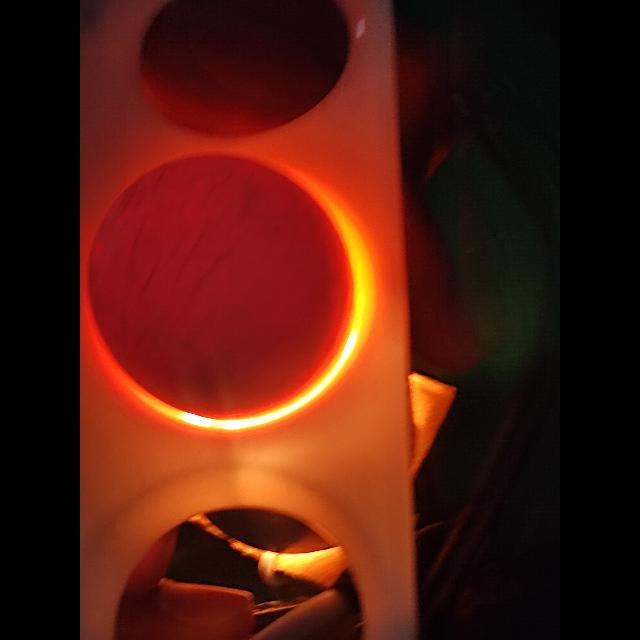Fertile: (88, 148, 360, 416)
